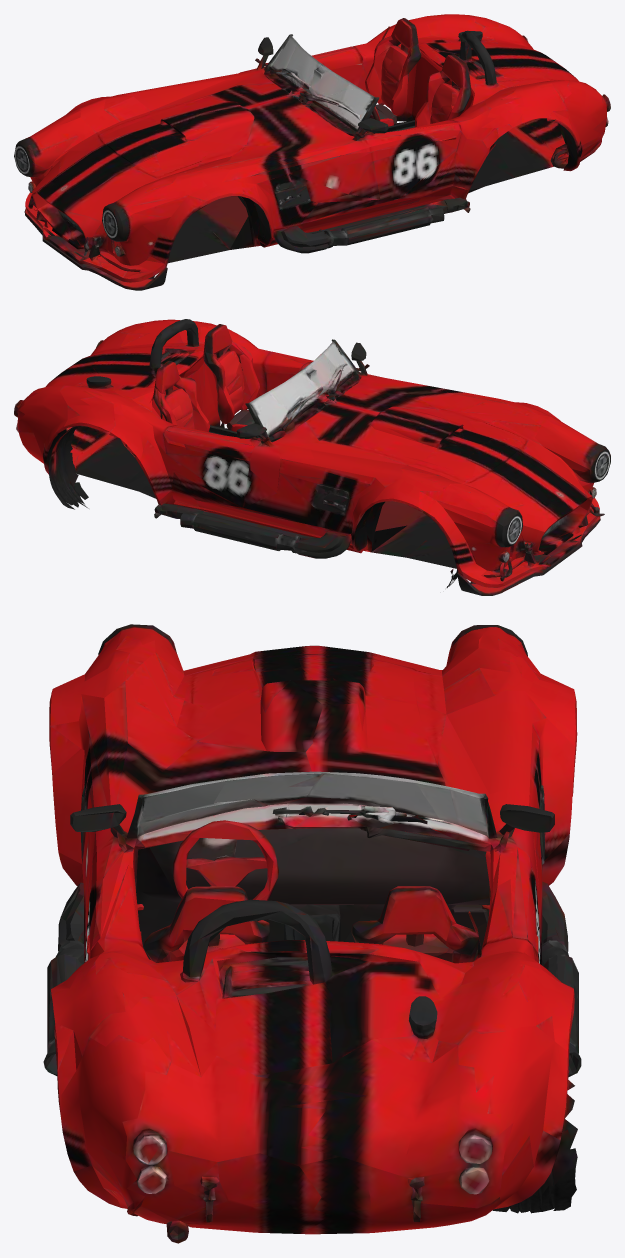
The model's file is ride_car.glb.
3 renders of one model, top to bottom at view 1: azimuth 30°, elevation 25°; view 2: azimuth 150°, elevation 25°; view 3: azimuth 270°, elevation 25°, orthographic. The views are drawn at different scales.
Visible parts, largest first — view 1: Mesh_0; view 2: Mesh_0; view 3: Mesh_0.
Part boxes in pixels (x1,y1,x2,y2): Mesh_0: (14, 14, 610, 290); Mesh_0: (14, 319, 610, 595); Mesh_0: (43, 624, 581, 1243).
Size of the model in its own units: 1.9 by 0.5055 by 0.8499.
Materials: 1 (1 with a texture image).
